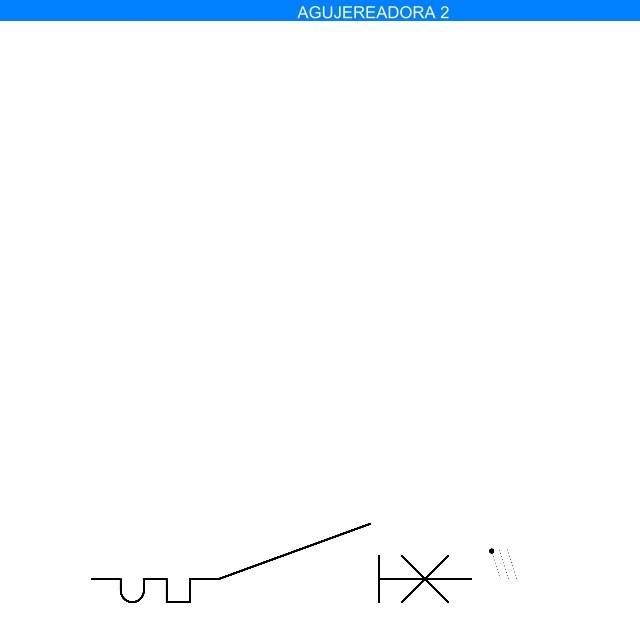interruptor_termomagnetico: (82, 514, 481, 612)
